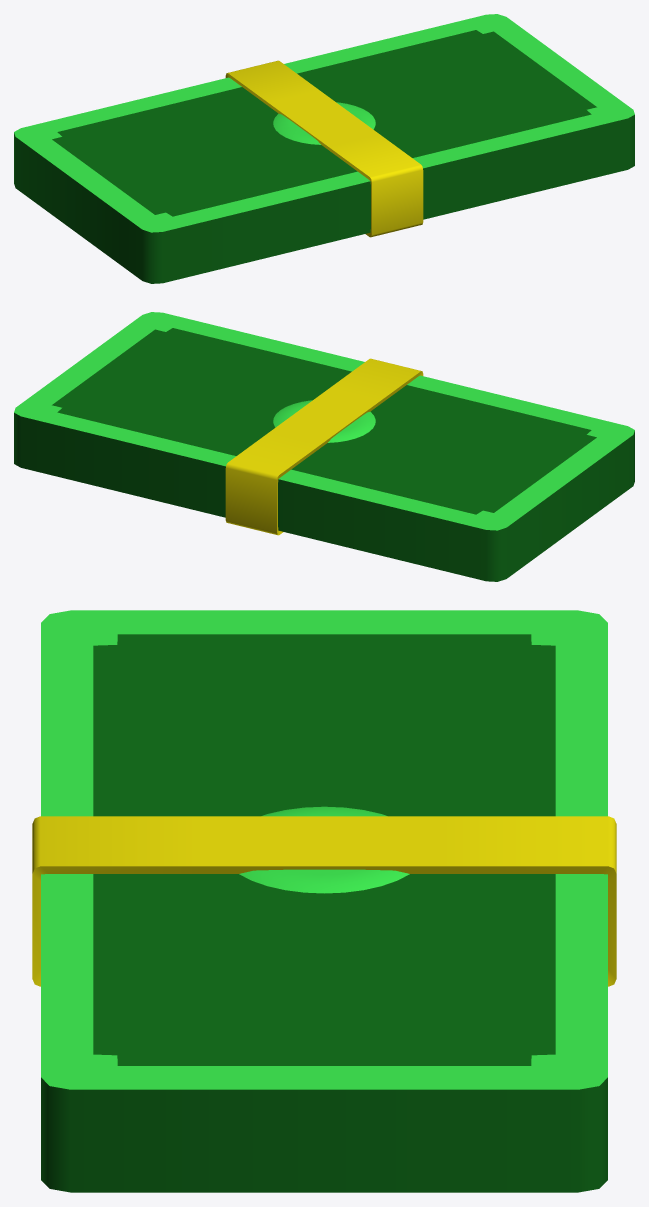
The model's file is Dollar.fbx.
The picture shows the model from 3 angles, top to bottom: view 1: azimuth 30°, elevation 25°; view 2: azimuth 150°, elevation 25°; view 3: azimuth 270°, elevation 25°; orthographic projection. The views are drawn at different scales.
Visible parts, largest first — view 1: Cube.001; view 2: Cube.001; view 3: Cube.001.
Part boxes in pixels (bbox=[...]): Cube.001: bbox=[14, 14, 634, 283]; Cube.001: bbox=[14, 312, 634, 581]; Cube.001: bbox=[32, 610, 616, 1192].
Size of the model in its own units: 2 by 0.2344 by 1.03.
